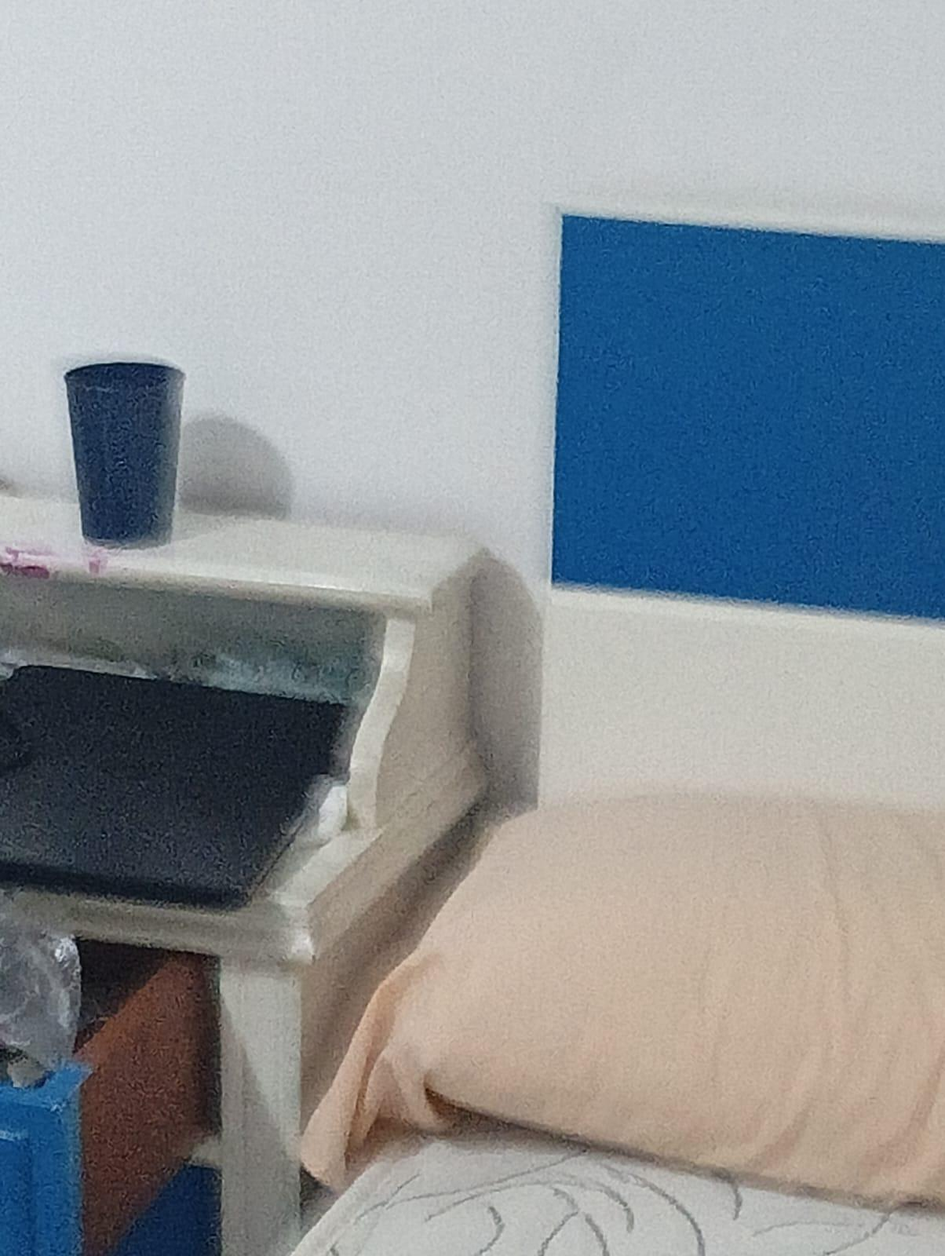cup: (64, 361, 184, 546)
